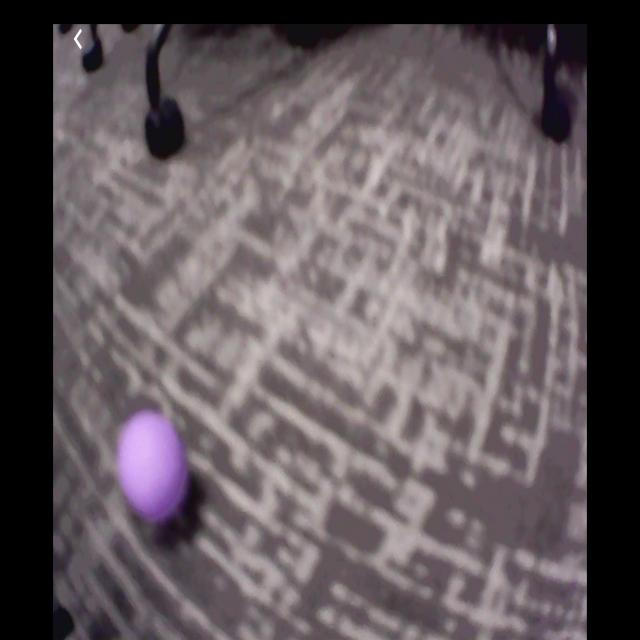ball: (119, 412, 191, 523)
